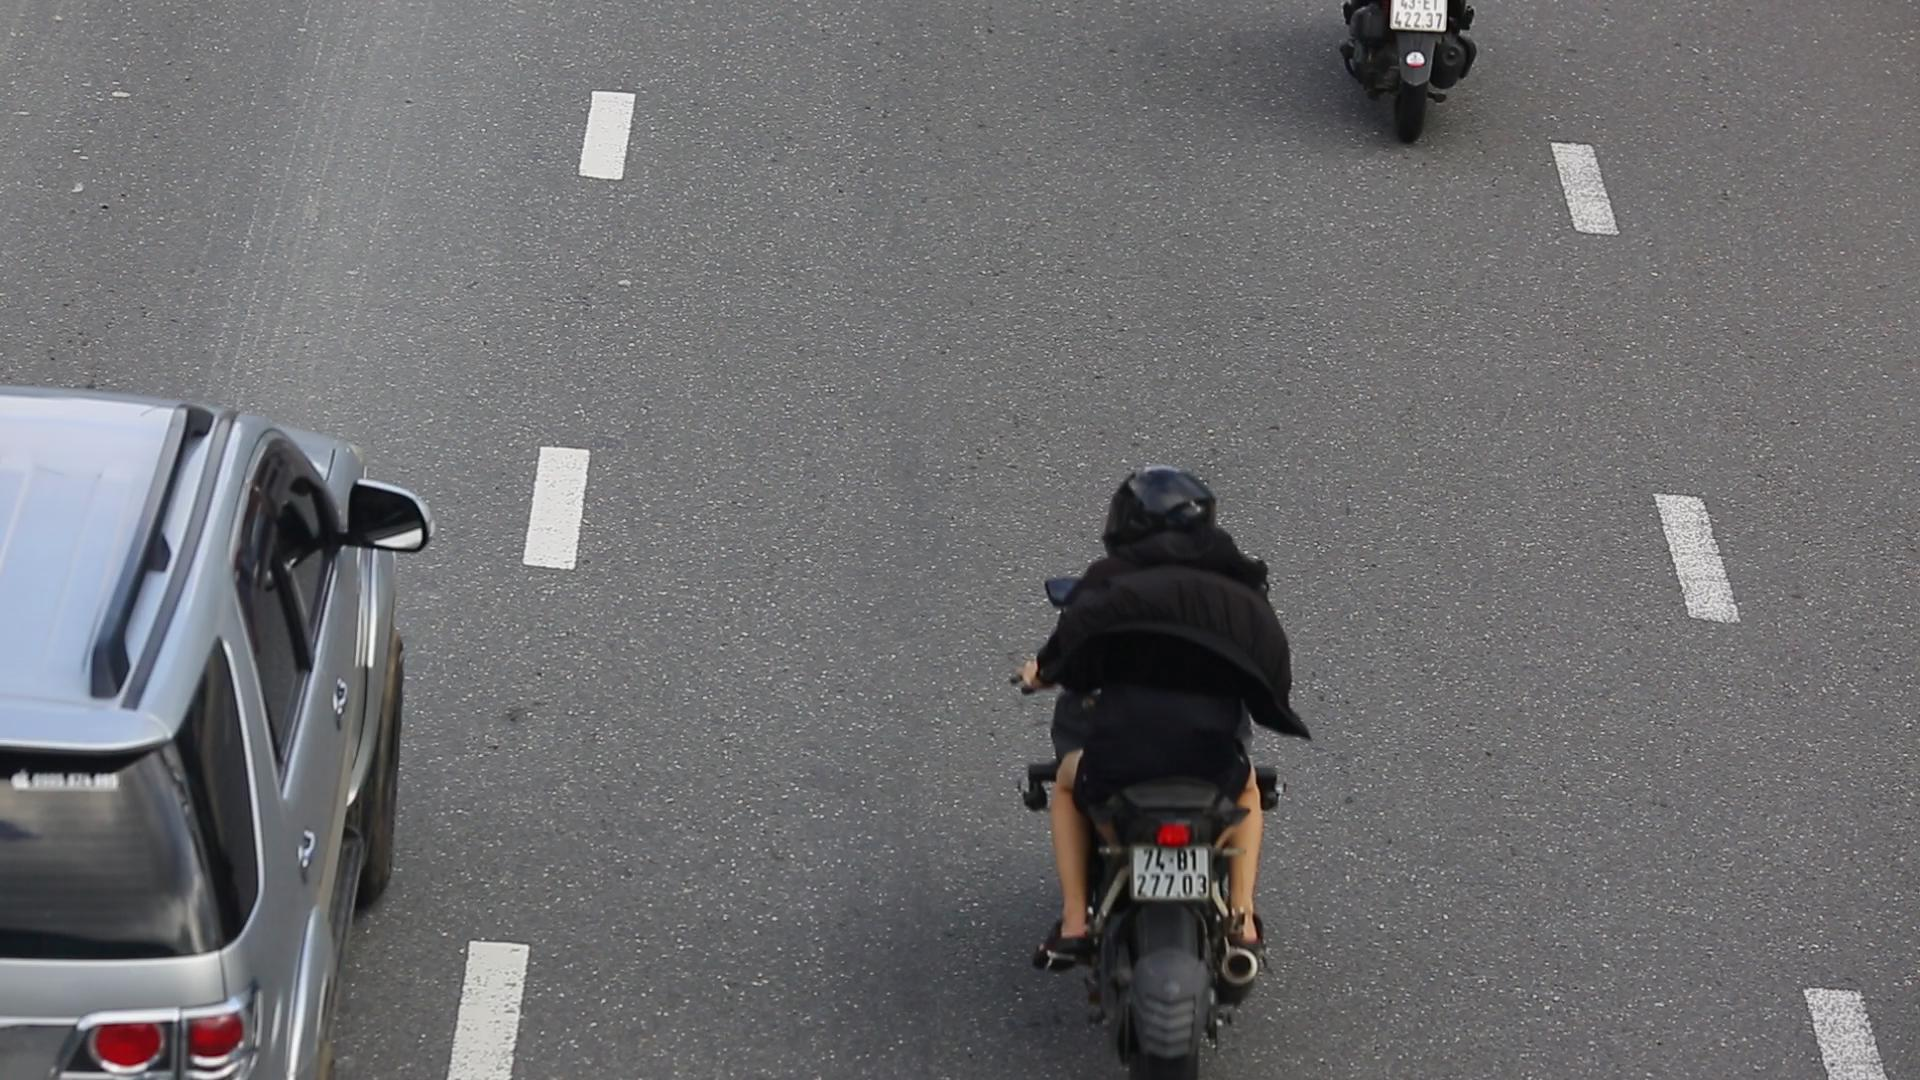motobike: (1022, 444, 1321, 1080)
